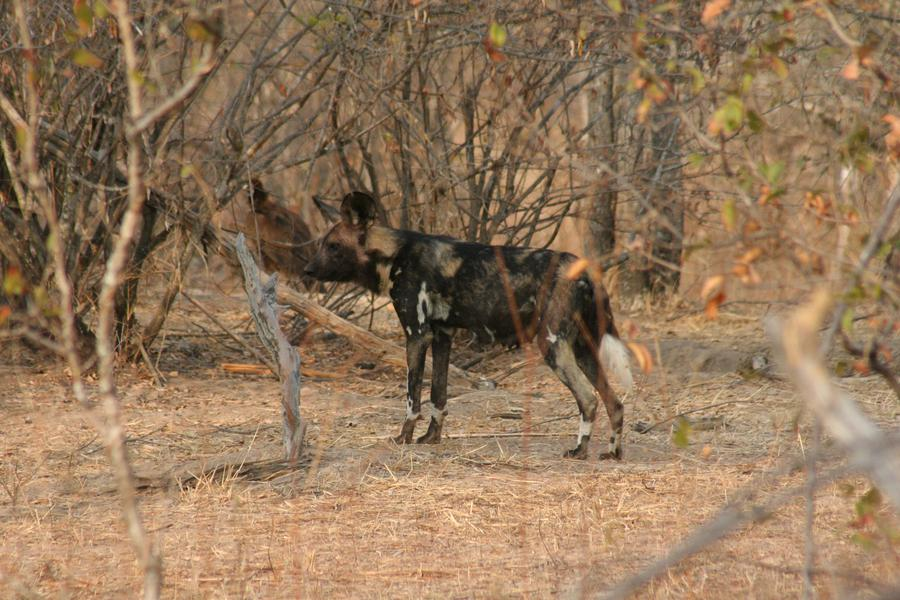wilddog: (330, 200, 614, 381)
